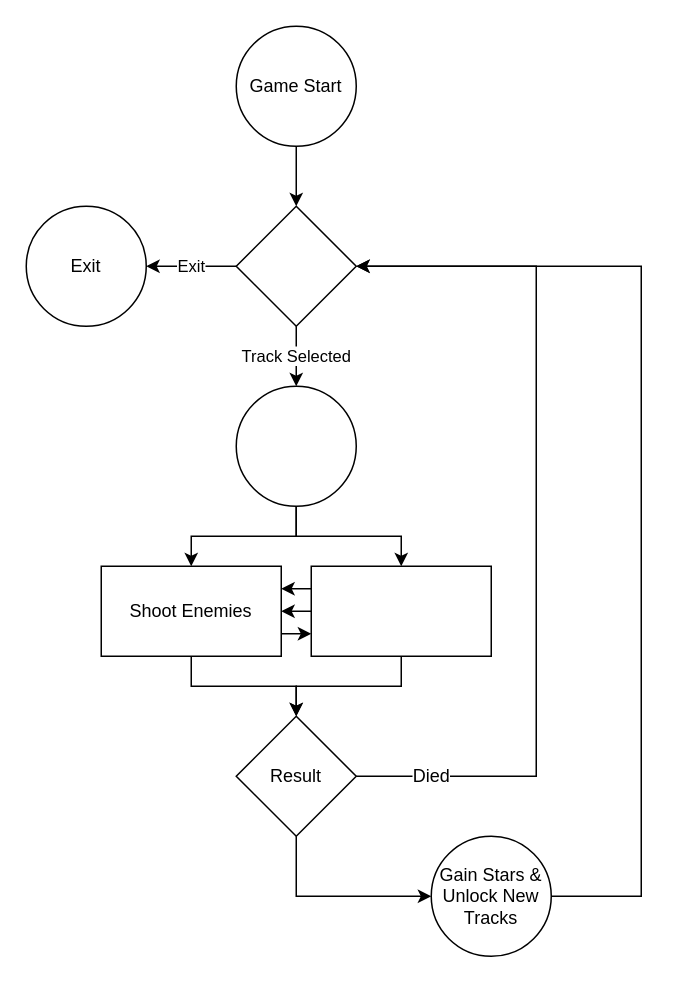
Some shapes in this 680 by 983 pixel diagram are drawn without their labels. Here are the shapes that lost their labels. From the top down, the centre of each, then its label:
At pixel 295 265: "Track Selection".
At pixel 295 445: "Level Loads".
At pixel 400 610: "Dodge Dangers".
